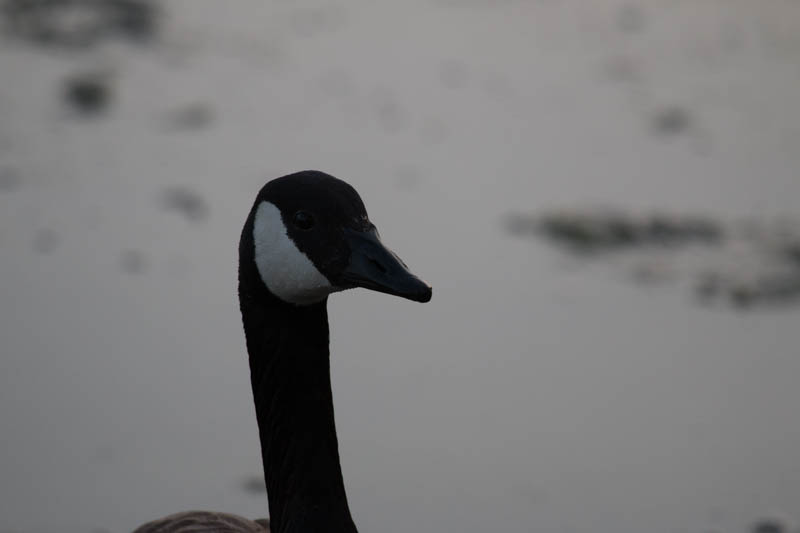goose-head: (238, 170, 433, 306)
